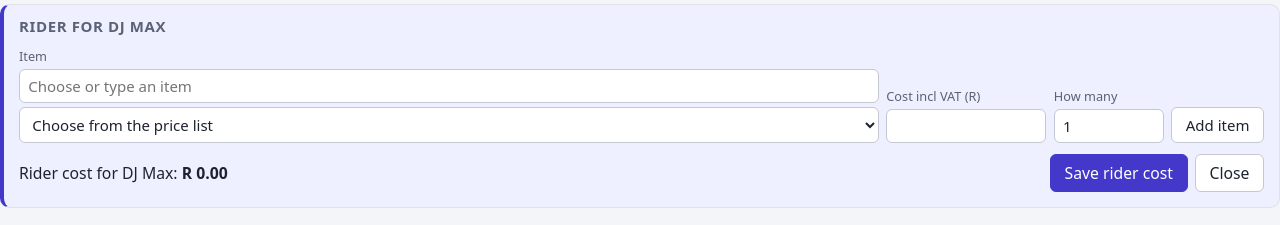
adding items › fills in the item and its cost when one is picked from the list, and goes back to the prompt
Later steps or results of the test are not shown.
Select "Red Bull (R 35.00)" in the dropdown named "Choose from the price list". click: [449, 125]
box: x1=19 y1=107 x2=879 y2=143
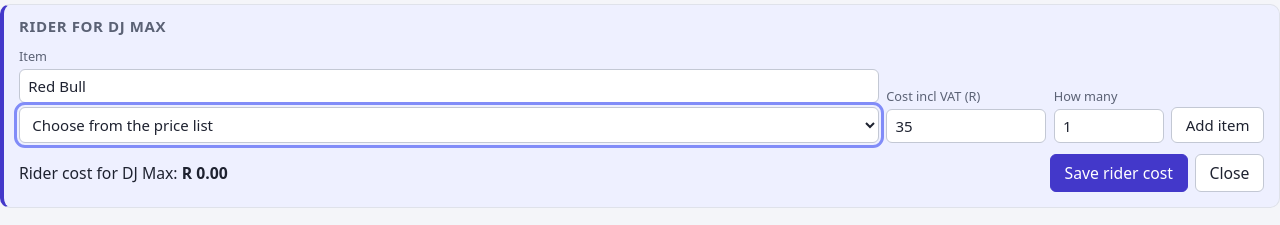
Check: the field labelled "Item" holds "Red Bull", box x1=19 y1=69 x2=879 y2=103
Check: the number field labelled "Cost incl VAT (R)" holds "35", box x1=886 y1=109 x2=1046 y2=143
